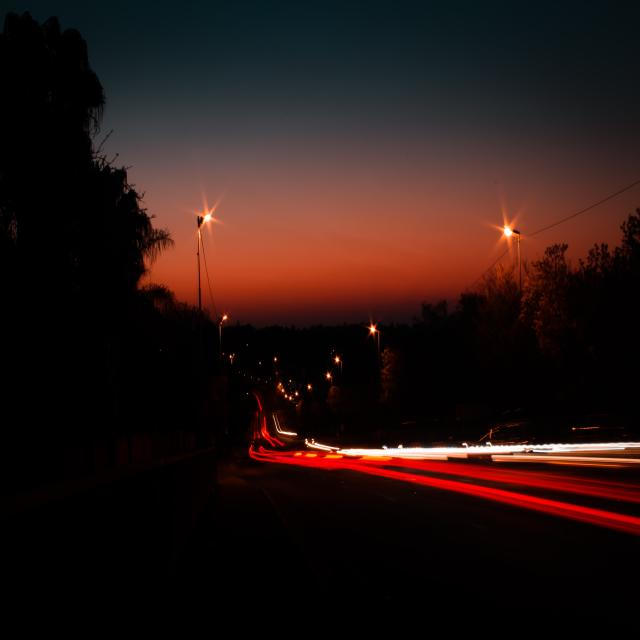Street Light: (503, 227, 523, 422), (195, 215, 211, 370), (370, 327, 380, 448), (219, 315, 227, 376), (336, 358, 342, 430), (326, 374, 333, 416), (308, 385, 312, 425)
